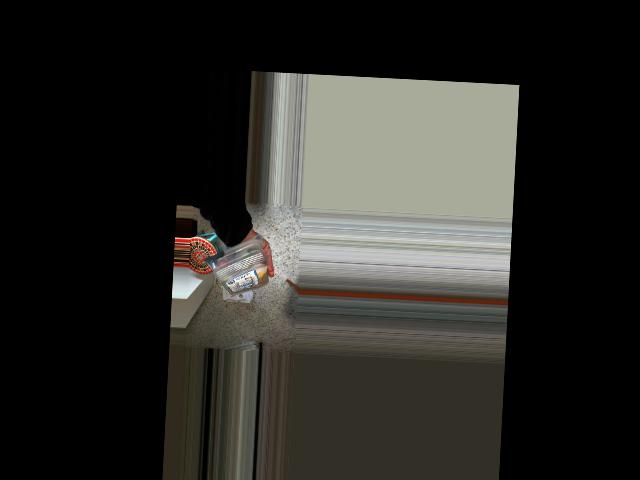cheese: (198, 231, 269, 308)
